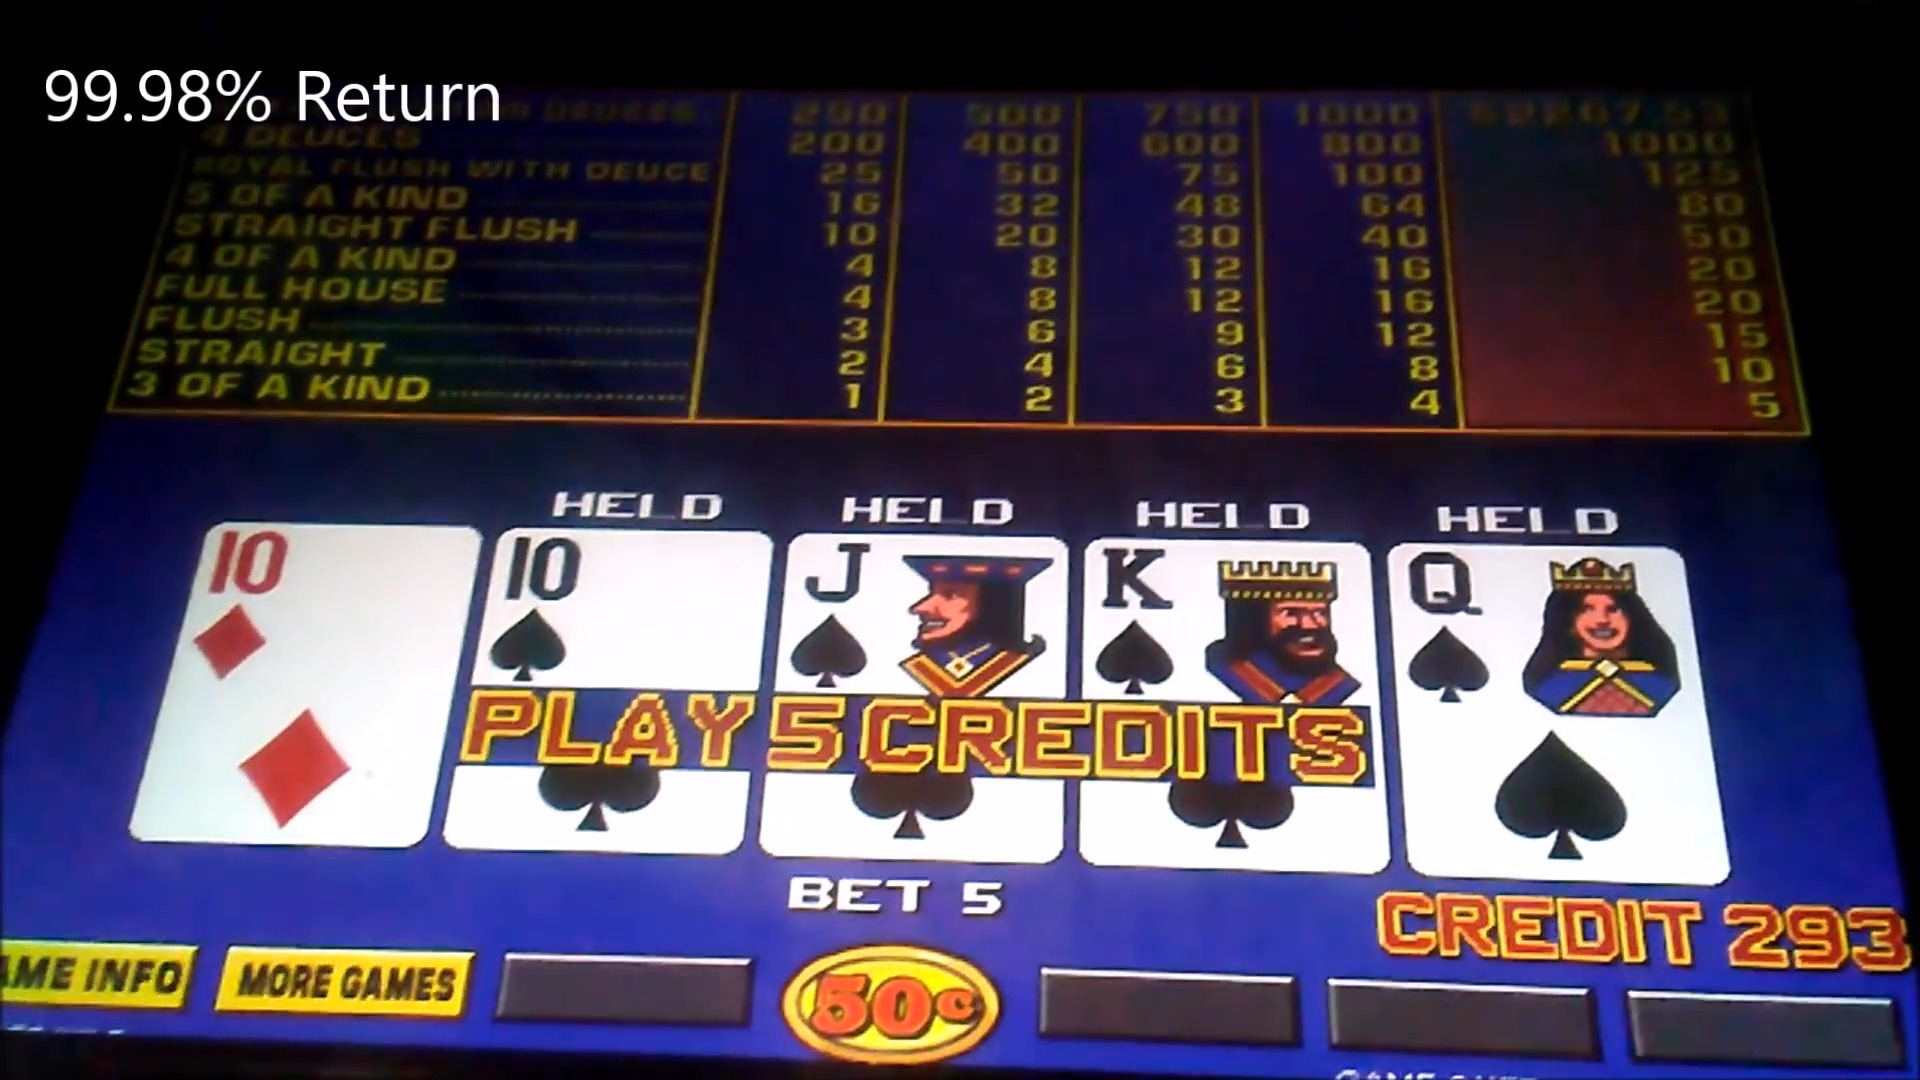DT: (196, 522, 462, 688)
SJ: (789, 541, 1072, 686)
SK: (1085, 545, 1367, 688)
SQ: (1396, 551, 1691, 709)
ST: (484, 535, 771, 683)
